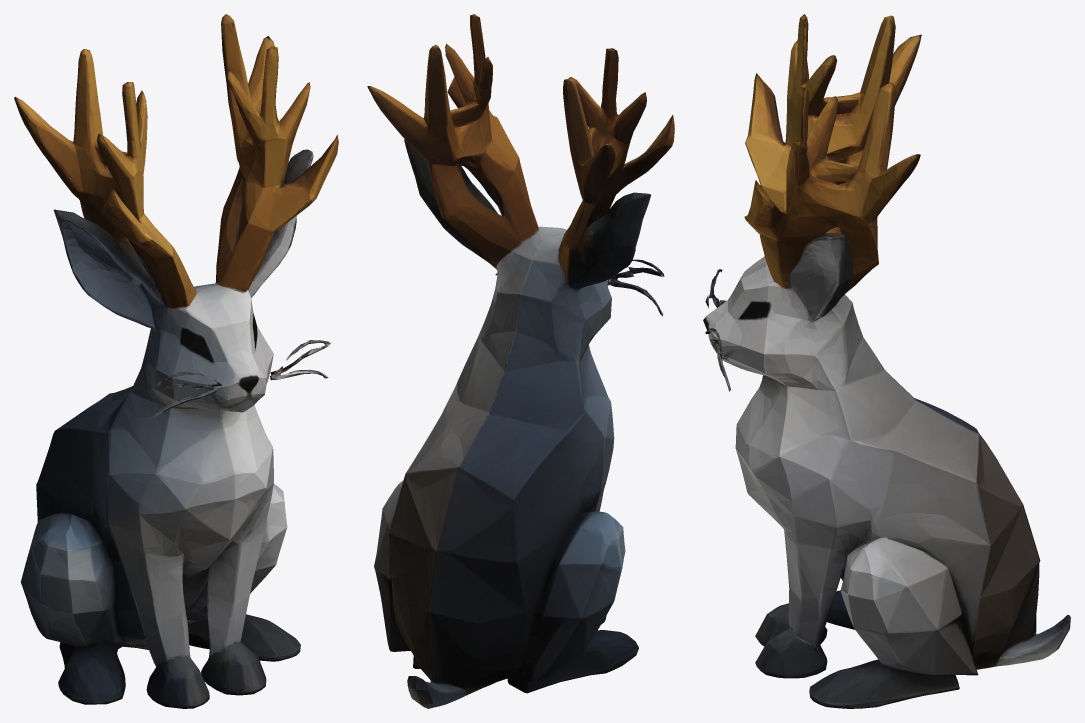
File: jackalope.glb
The picture shows the model from 3 angles, left to right: view 1: azimuth 30°, elevation 25°; view 2: azimuth 150°, elevation 25°; view 3: azimuth 270°, elevation 25°; orthographic projection. The views are drawn at different scales.
Visible parts, largest first — view 1: world; view 2: world; view 3: world.
Boxes of the visible parts, left/top/right/bottom form: world: left=14, top=14, right=338, bottom=708; world: left=367, top=14, right=674, bottom=708; world: left=703, top=14, right=1070, bottom=708.
Bounding box in the file's own units: 0.4269 × 0.9997 × 0.5433.
1 material, 1 textured.
